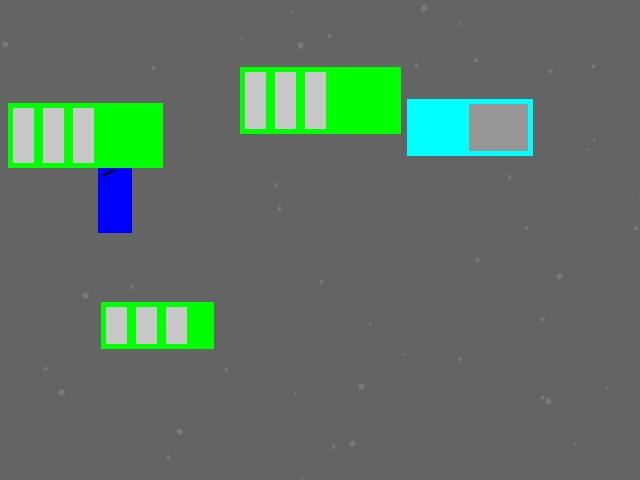bus: (240, 67, 400, 133), (8, 103, 162, 167), (101, 302, 213, 348)
motorcycle: (98, 165, 131, 232)
truck: (407, 99, 532, 155)
